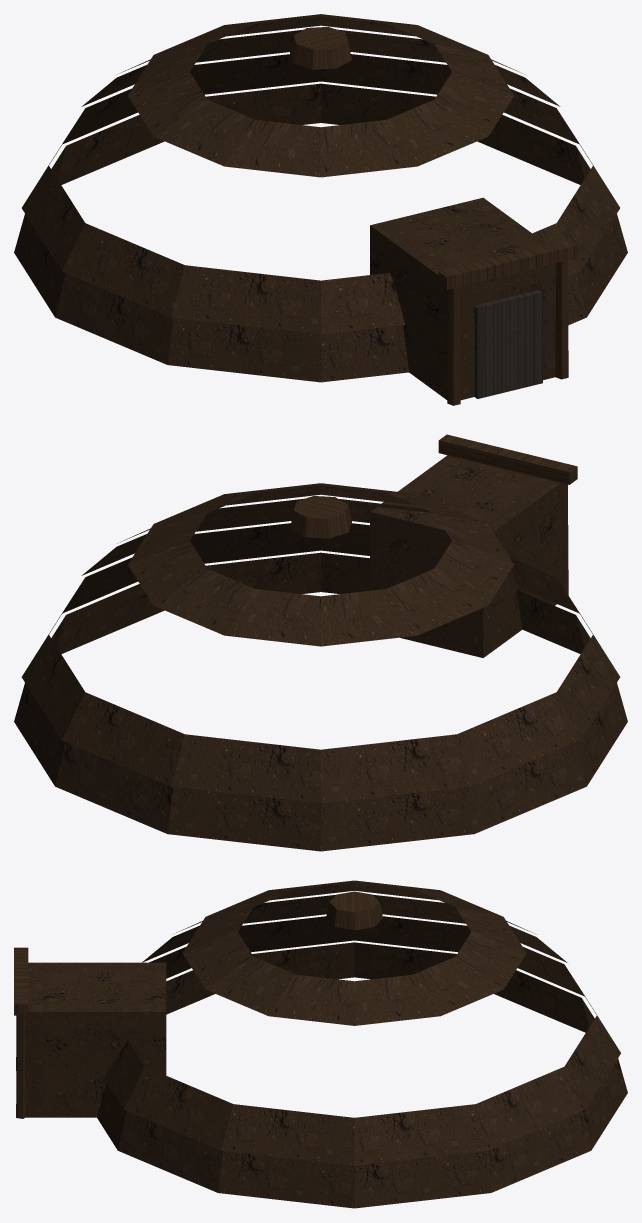
File: earth_lodge_01.glb
3 views of the same model, one above another, from view 1: azimuth 30°, elevation 25°; view 2: azimuth 150°, elevation 25°; view 3: azimuth 270°, elevation 25° (orthographic). The views are drawn at different scales.
Visible parts, largest first — view 1: earth_lodge_01; view 2: earth_lodge_01; view 3: earth_lodge_01.
Boxes of the visible parts, box(x1,y1,x2,y2) form: earth_lodge_01: box(14, 14, 627, 405); earth_lodge_01: box(14, 434, 627, 851); earth_lodge_01: box(14, 880, 627, 1208).
Size of the model in its own units: 6.1 by 2.35 by 6.85.
3 materials, 3 textured.
